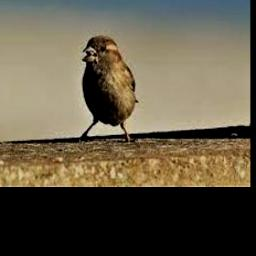Sparrow: (78, 34, 138, 141)
